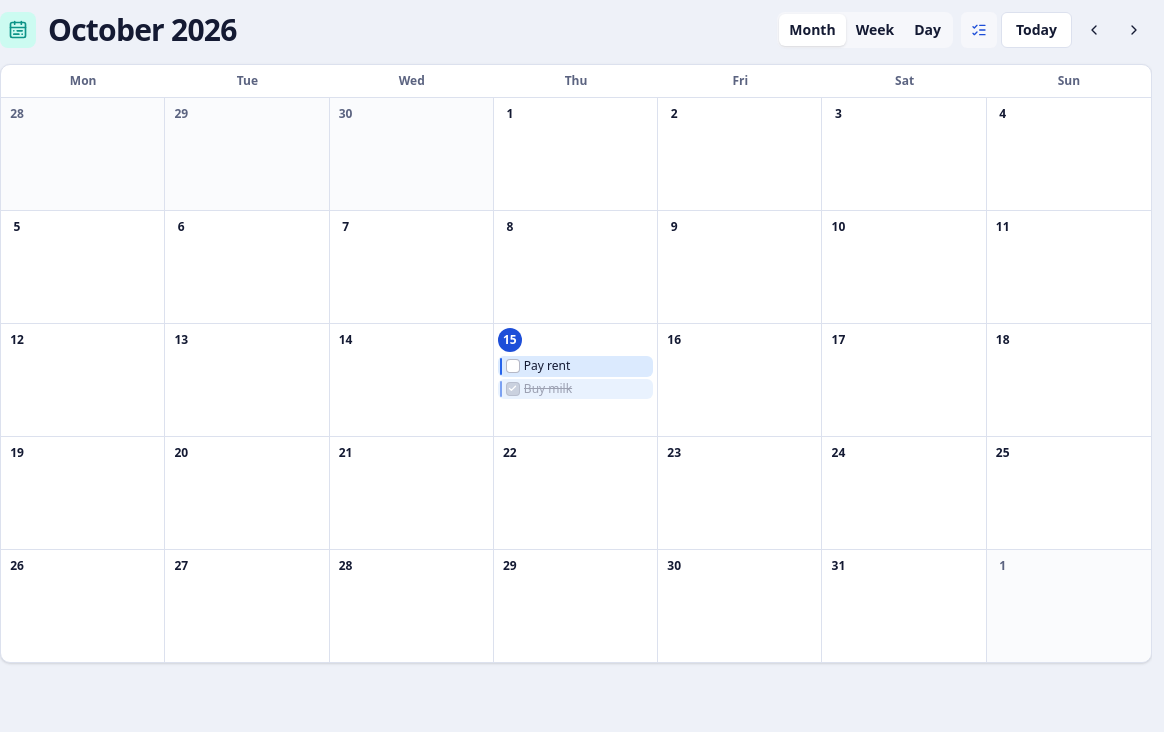
Test: CalendarView's Closed toggle › hides and shows Closed Tasks without asking the server again
Expected: the text "Buy milk" is shown, [524,380,572,396]
Click the button named "Show Closed Tasks": click(979, 30) [961,12,997,48]
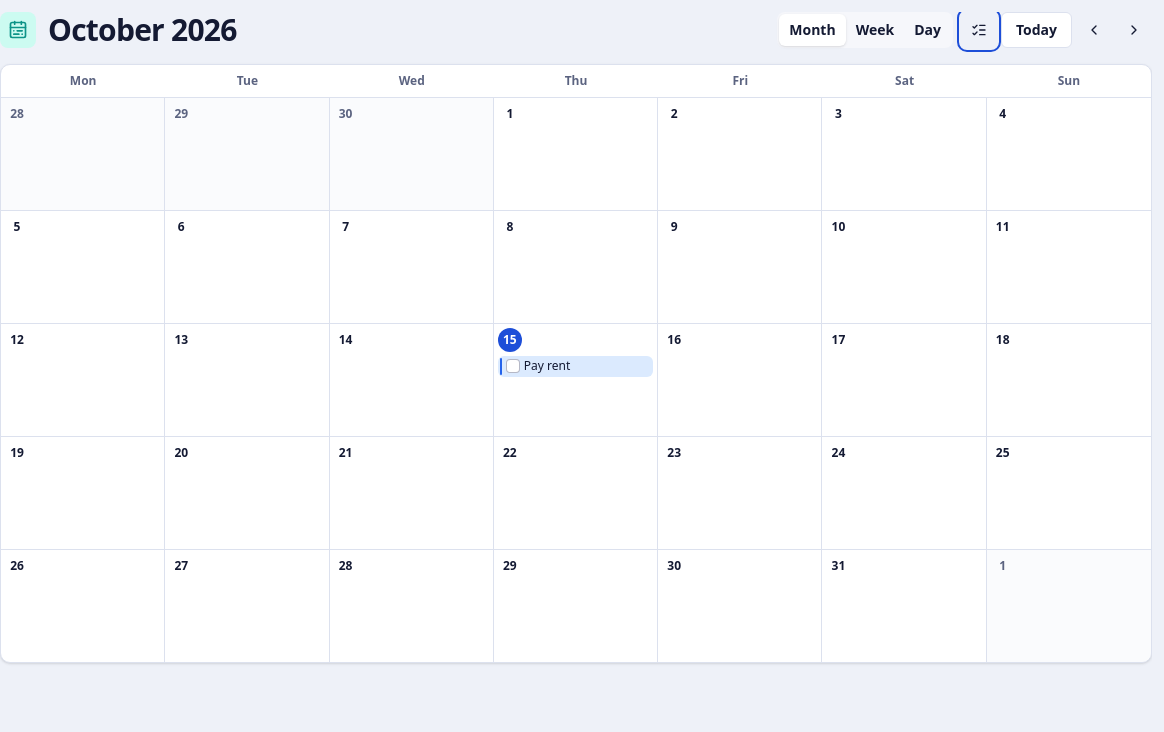
Expected: the text "Pay rent" is shown, [524,357,570,374]
Expected: the button "Buy milk" is gone
Click the button named "Show Closed Tasks": click(979, 30) [961,12,997,48]
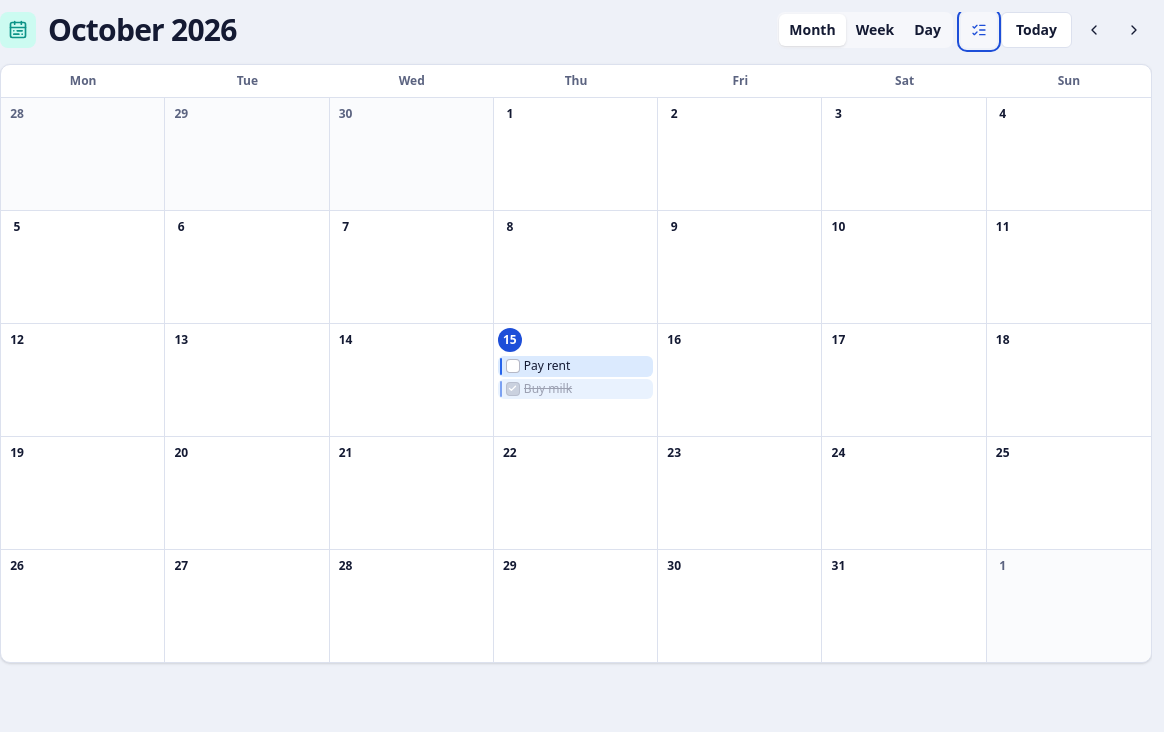
Expected: the text "Buy milk" is shown, [524,380,572,396]
